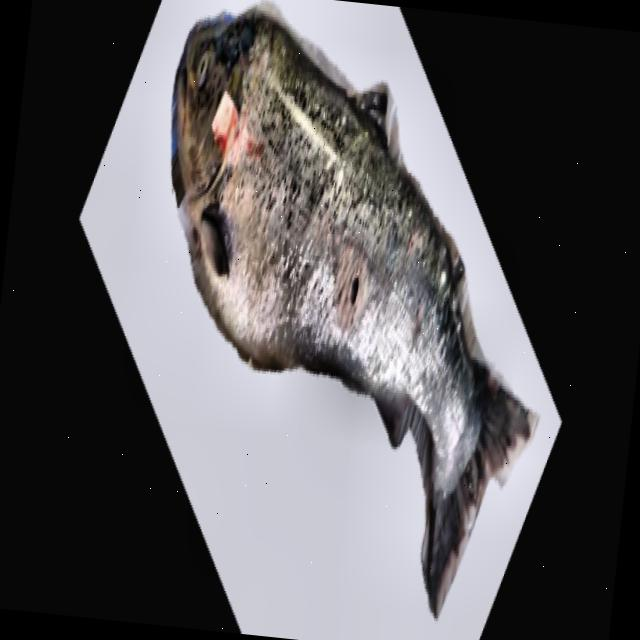mild_red: (177, 29, 469, 486)
